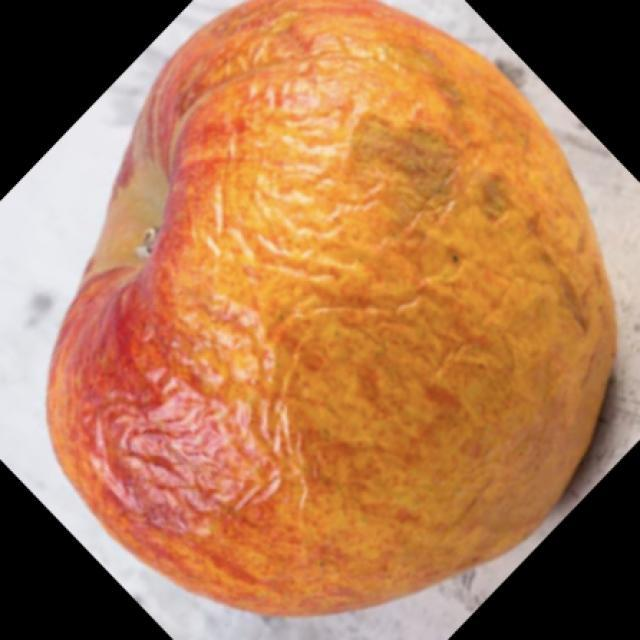Rotten: (67, 13, 618, 600)
